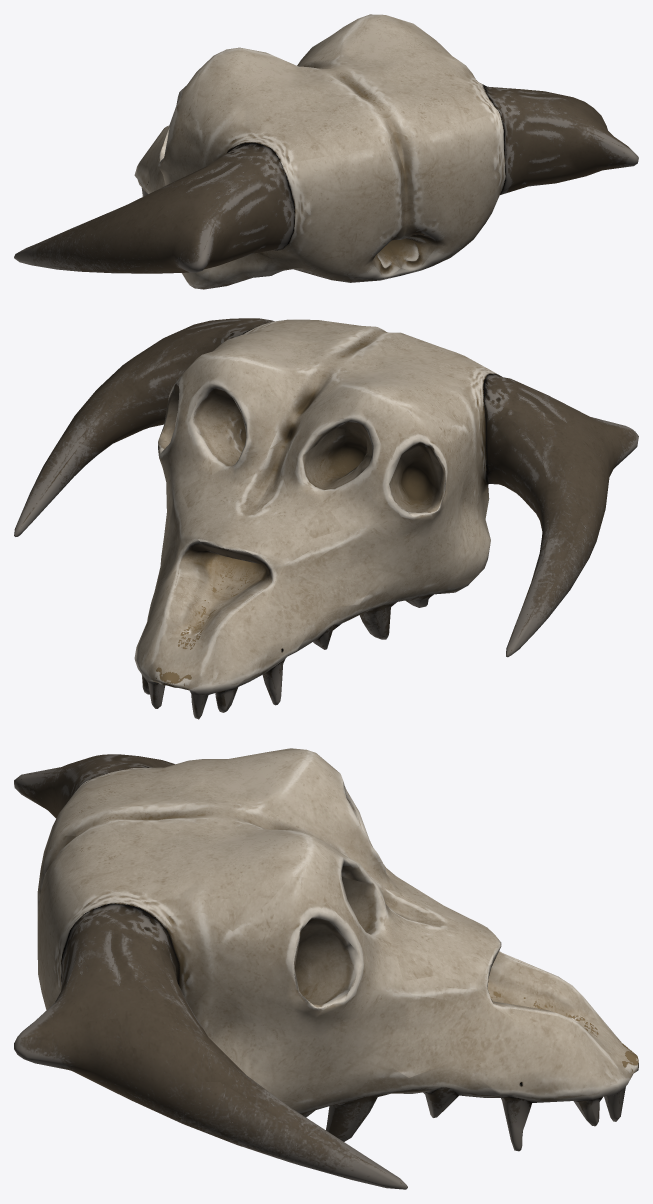
Rendered from mutant_skull.glb.
3 renders of one model, top to bottom at view 1: azimuth 30°, elevation 25°; view 2: azimuth 150°, elevation 25°; view 3: azimuth 270°, elevation 25°, orthographic. The views are drawn at different scales.
Parts seen in each view (by area): view 1: skull001; view 2: skull001; view 3: skull001.
Part boxes in pixels (left/top/right/bottom): skull001: left=14, top=14, right=638, bottom=289; skull001: left=14, top=318, right=638, bottom=719; skull001: left=14, top=748, right=638, bottom=1189.
Size of the model in its own units: 225 by 106 by 189.
Materials: 1 (1 with a texture image).
